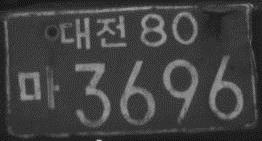0: (171, 11, 199, 46)
3: (72, 60, 112, 129)
6: (119, 59, 157, 127), (208, 53, 243, 121)
8: (139, 11, 167, 49)
9: (161, 56, 199, 124)
대전_O: (58, 13, 128, 50)
마: (15, 64, 60, 110)
